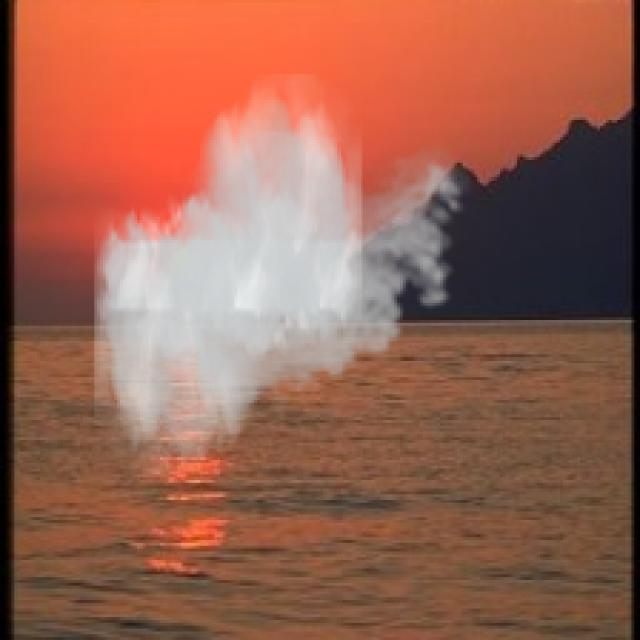smoke: (94, 74, 474, 477)
